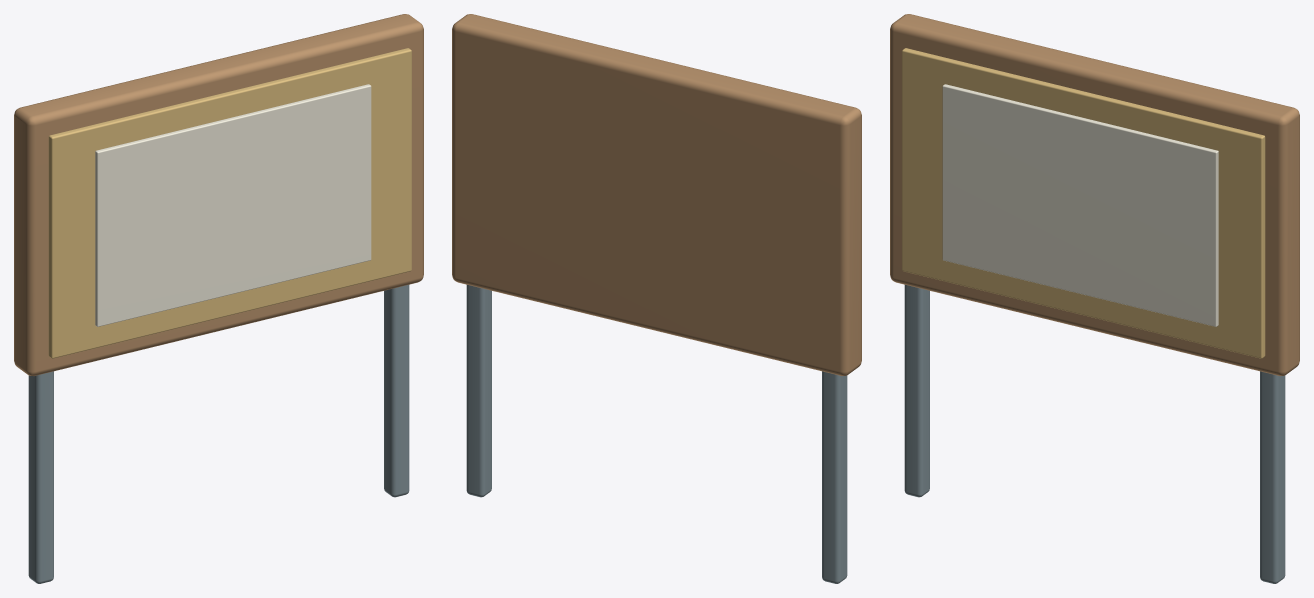
File: alpha_noticeboard.glb
3 renders of one model, left to right at view 1: azimuth 30°, elevation 25°; view 2: azimuth 150°, elevation 25°; view 3: azimuth 330°, elevation 25°, orthographic.
Parts seen in each view (by area): view 1: Alpha_paper, Alpha_gold, Alpha_oak, Alpha_metal; view 2: Alpha_oak, Alpha_metal; view 3: Alpha_paper, Alpha_gold, Alpha_oak, Alpha_metal.
Part boxes in pixels (x1,y1,x2,y2): Alpha_paper: (95, 84, 371, 326); Alpha_gold: (48, 48, 411, 358); Alpha_oak: (14, 14, 423, 375); Alpha_metal: (28, 285, 409, 583); Alpha_oak: (452, 14, 861, 375); Alpha_metal: (466, 285, 847, 583); Alpha_paper: (942, 84, 1218, 326); Alpha_gold: (902, 48, 1265, 358); Alpha_oak: (890, 14, 1299, 375); Alpha_metal: (904, 285, 1285, 583).
Size of the model in its own units: 1.52 by 1.72 by 0.164.
